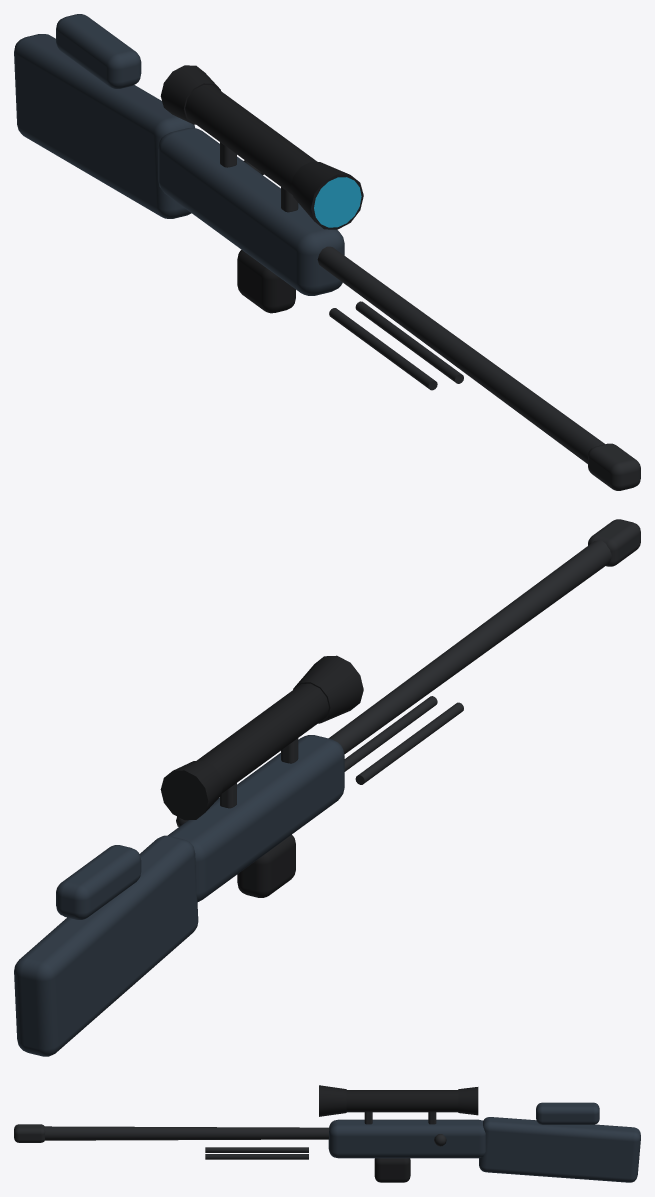
File: heron.glb
3 renders of one model, top to bottom at view 1: azimuth 30°, elevation 25°; view 2: azimuth 150°, elevation 25°; view 3: azimuth 270°, elevation 25°, orthographic. The views are drawn at different scales.
Parts seen in each view (by area): view 1: Heron; view 2: Heron; view 3: Heron.
Boxes of the visible parts, box(x1,y1,x2,y2) form: Heron: box(14, 14, 640, 490); Heron: box(14, 519, 640, 1056); Heron: box(14, 1085, 640, 1182).
Bounding box in the file's own units: 0.106 × 0.26 × 1.57.
